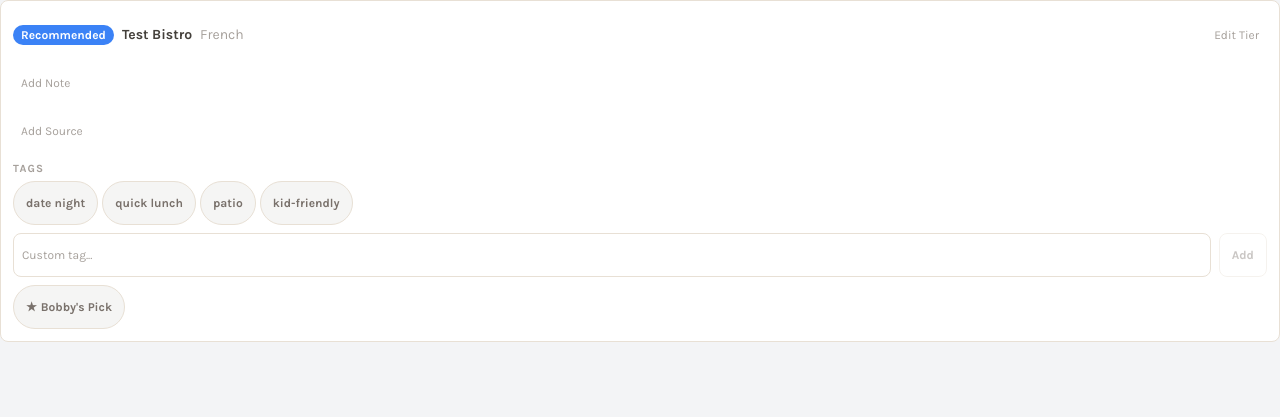
Test: SessionRestaurantCard — Add Source flow (AC 5, 6, 7, 16) › typing in source input enables "Save" button
Click the button with aria-label "add source for test bistro" at (52, 131), box [13, 109, 91, 153]
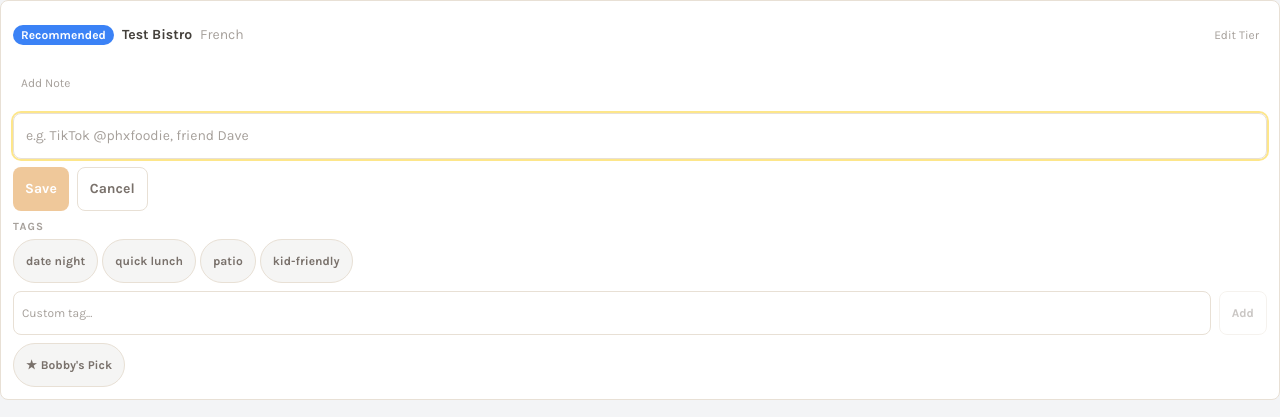
Type "TikTok @phxfoodie" into the field with test id "source-input" at (640, 136), box [13, 113, 1267, 159]
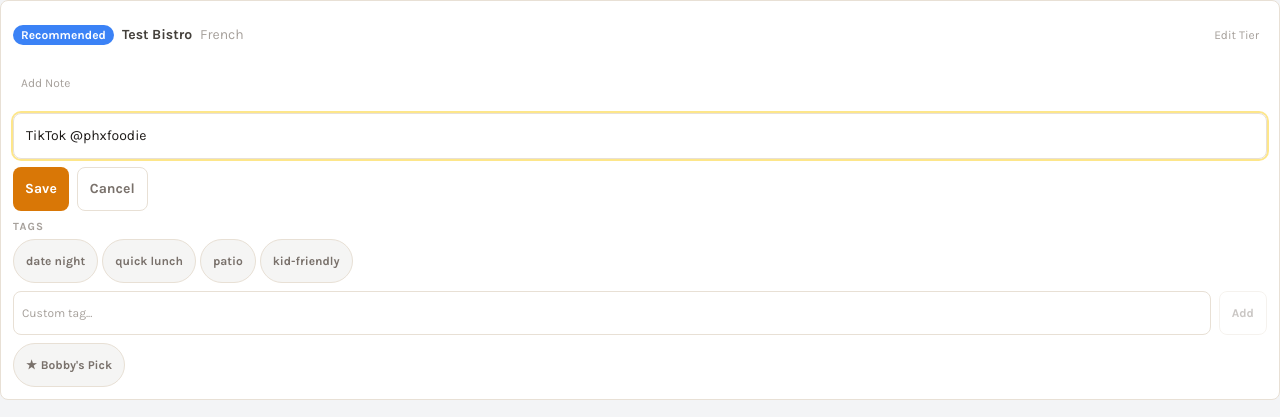
Check: the button with test id "save-source-btn" is enabled, box [13, 167, 69, 211]
